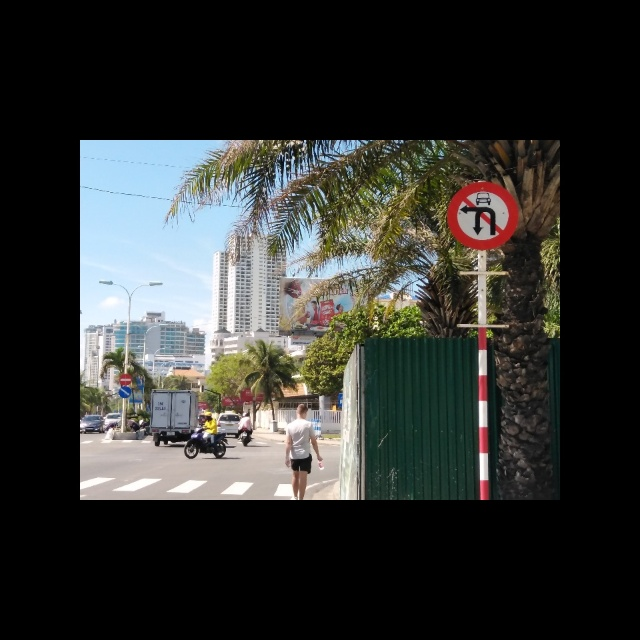Cấm xe ô tô quay đầu và rẽ trái: (449, 180, 520, 252)
